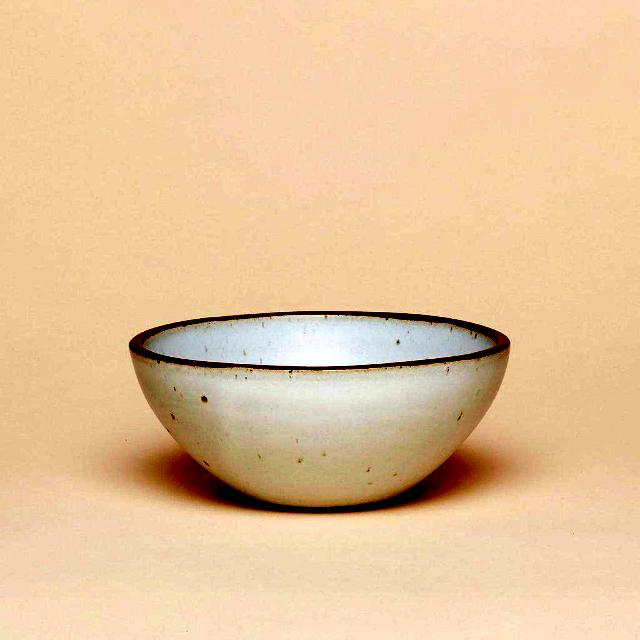Bowl: (130, 312, 509, 508)
